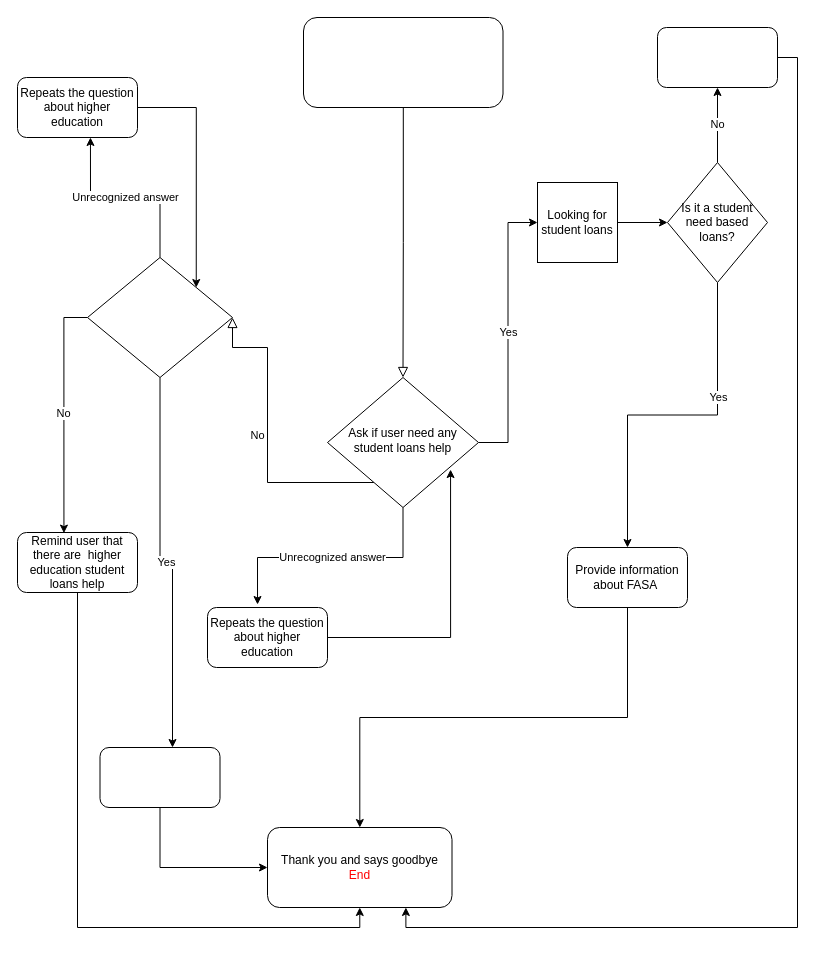
This 823x953 diagram has some shape labels left out. The centre of each missing label's shape, as x and y in pixels:
"Ask if user pursuing for higher education" goes at point 159,317.
"Provide information about private loans" goes at point 717,57.
"Remind user that there are scholarships, grants and etc." goes at point 159,777.
"Start Mr. Student Loan introduces himself and ask for a name" goes at point 402,62.
